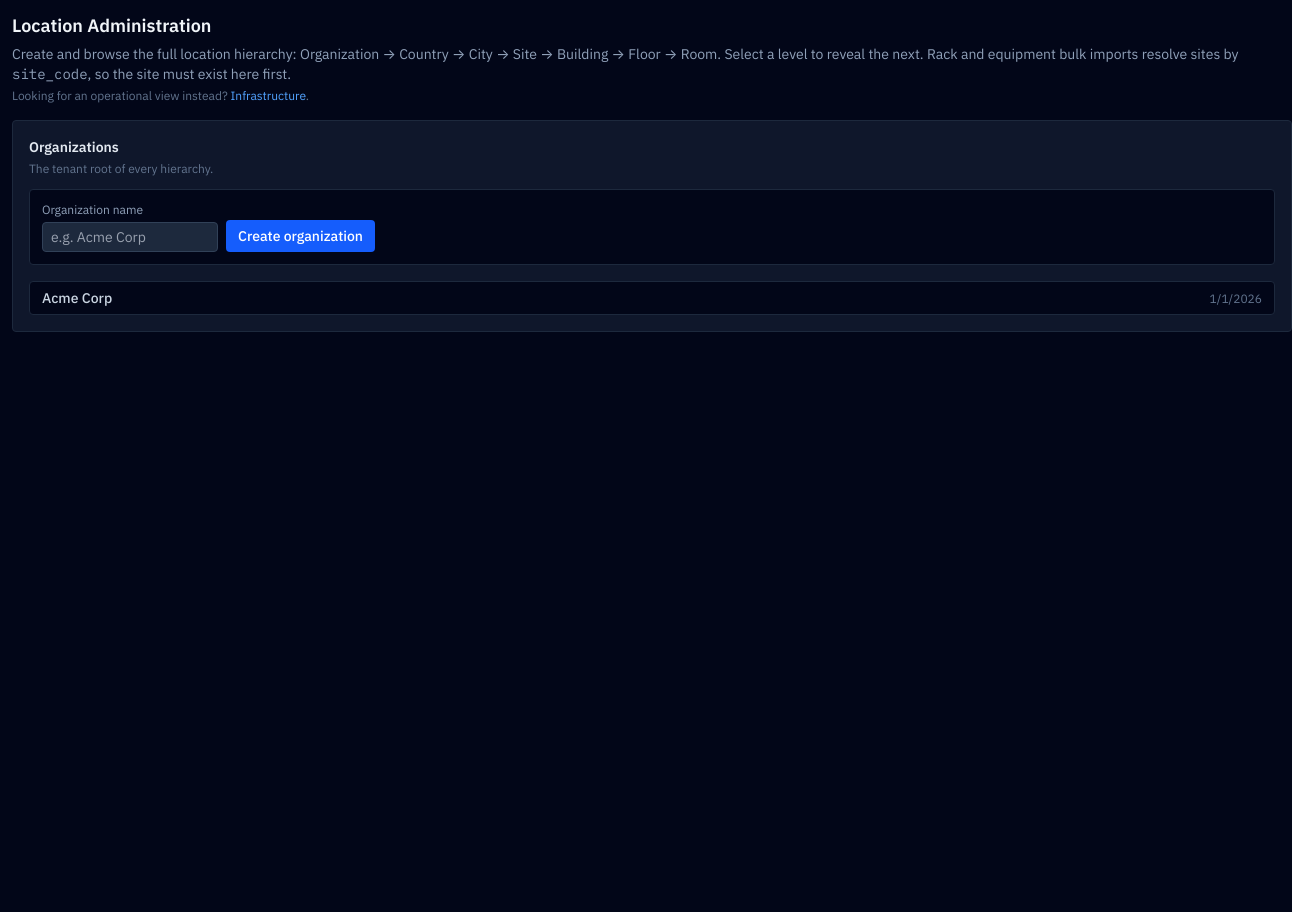
Test: LocationsPage › surfaces the API's missing-parent 404 detail
Click the button "Acme Corp 1/1/2026".
click(77, 298)  # box top-left (29, 281), bottom-right (1275, 315)
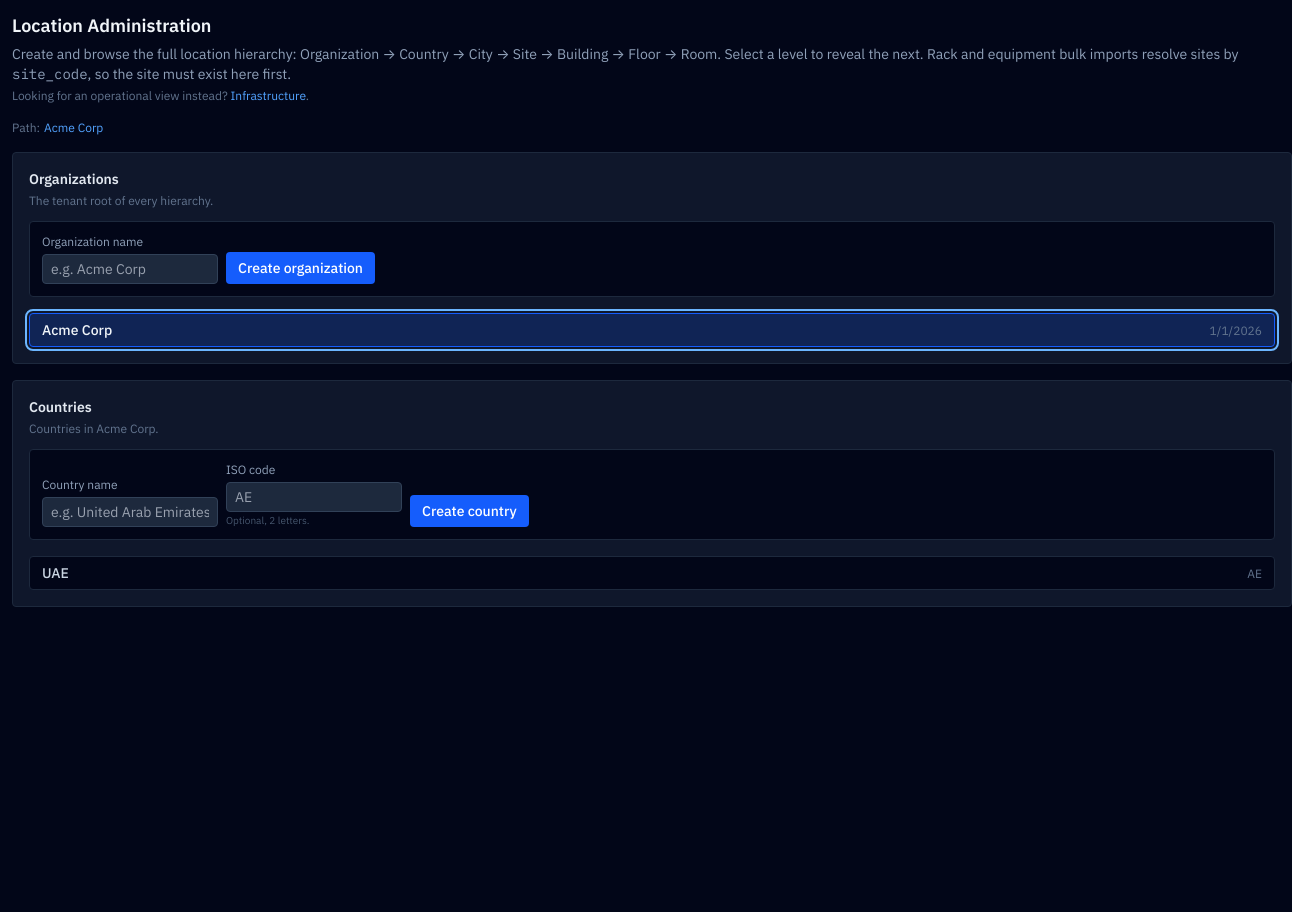
Type "Nowhere" into the field labelled "Country name".
click(130, 512); type("Nowhere")  # box top-left (42, 497), bottom-right (218, 527)
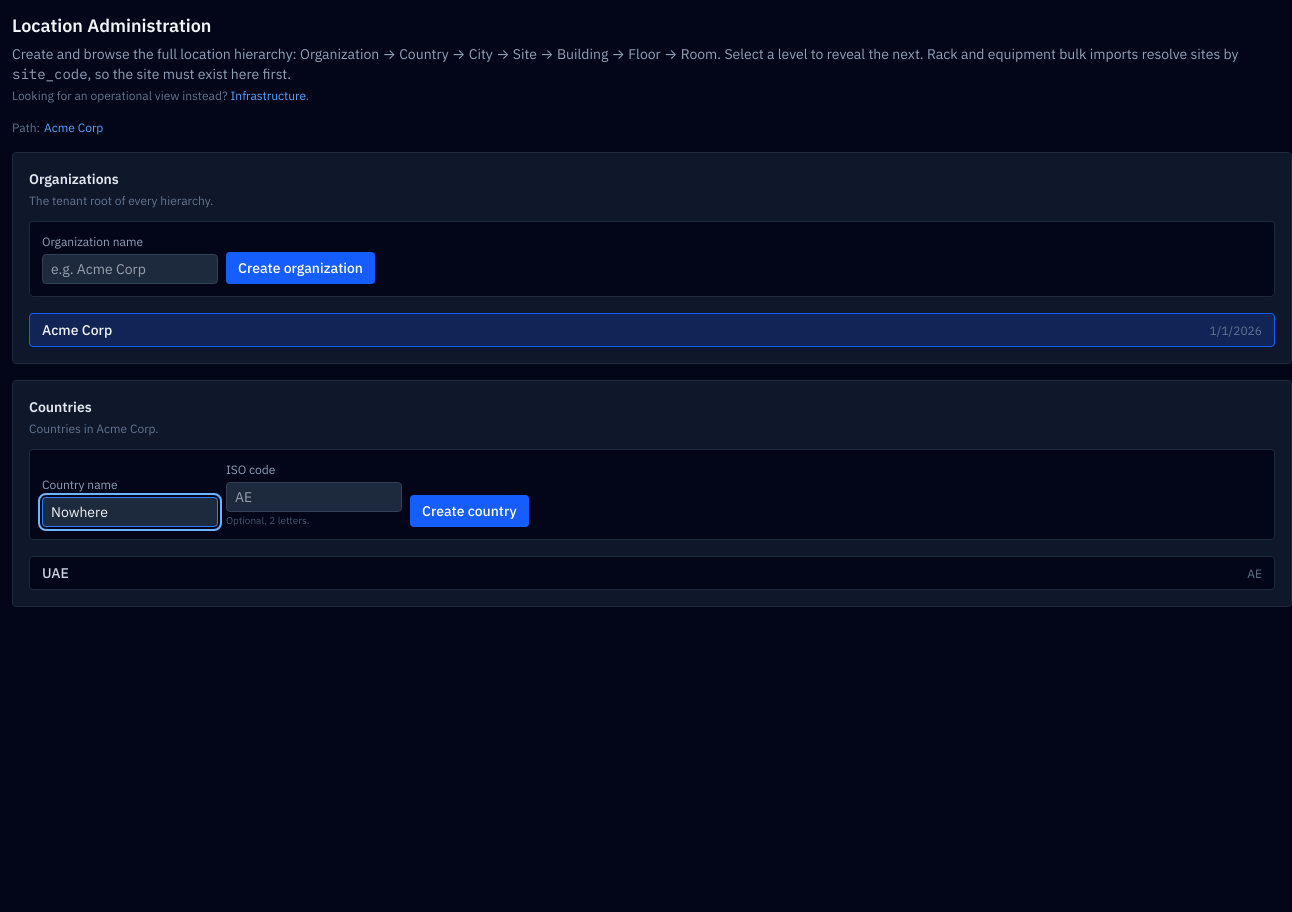
Click the button "Create country".
click(469, 511)  # box top-left (410, 495), bottom-right (529, 527)
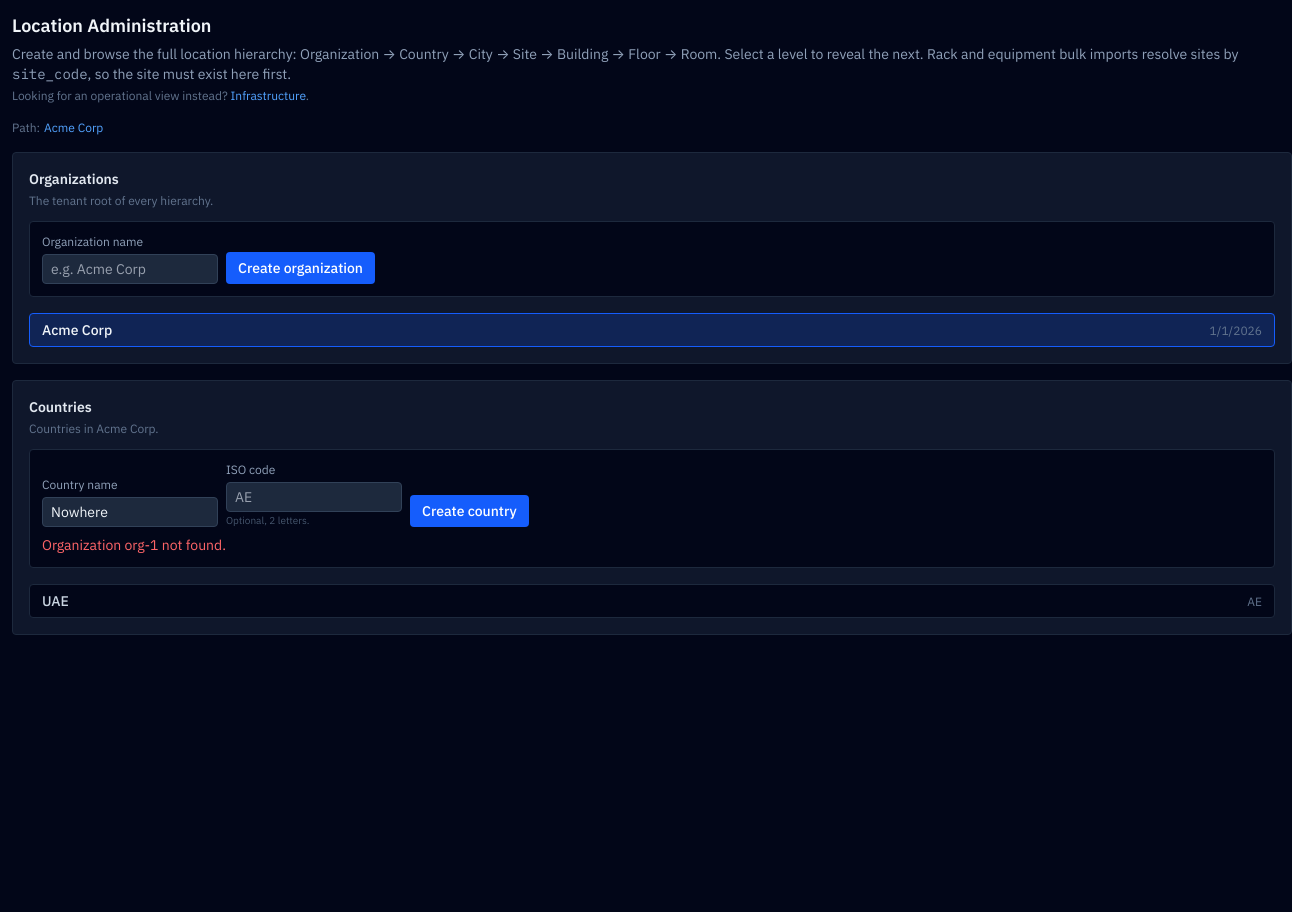
Expected: the message reads "Organization org-1 not found.", top-left (42, 536), bottom-right (226, 554)
